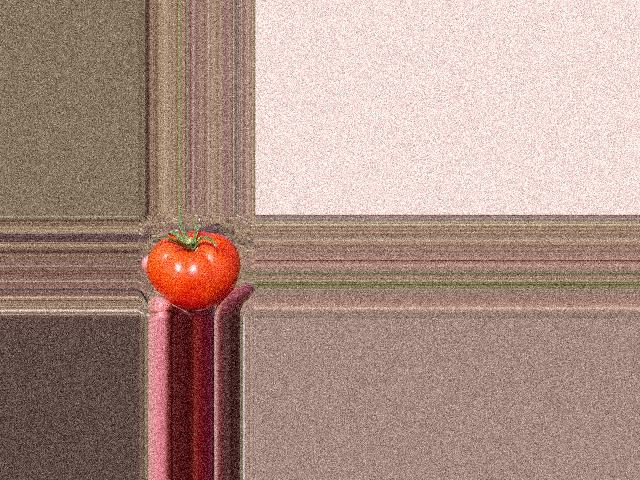tomato: (146, 231, 239, 310)
